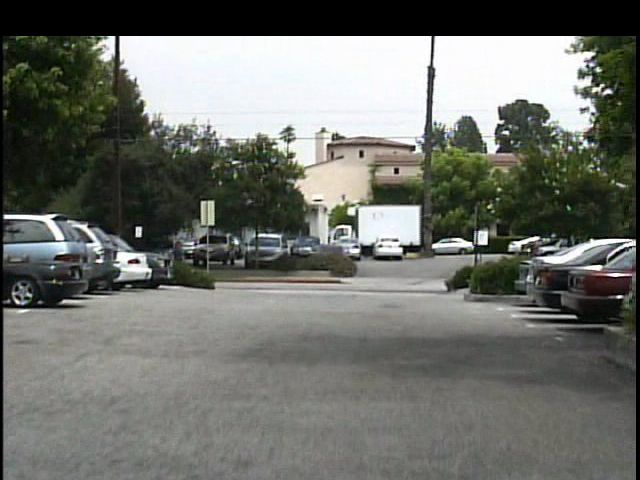person: (168, 230, 191, 272)
